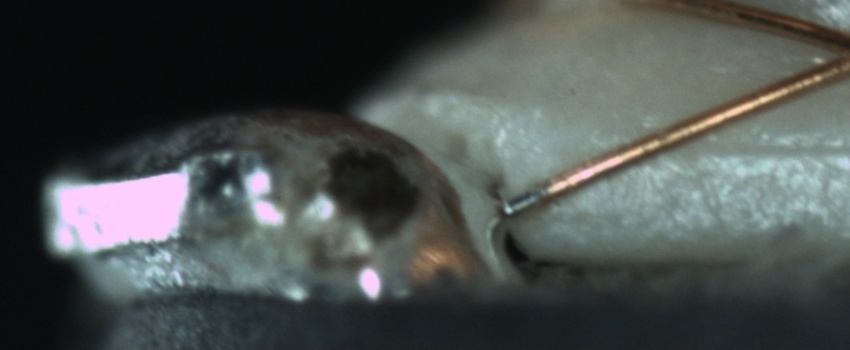CL: (807, 13, 850, 83)
DL: (632, 113, 847, 186)
TS: (498, 183, 547, 216)
